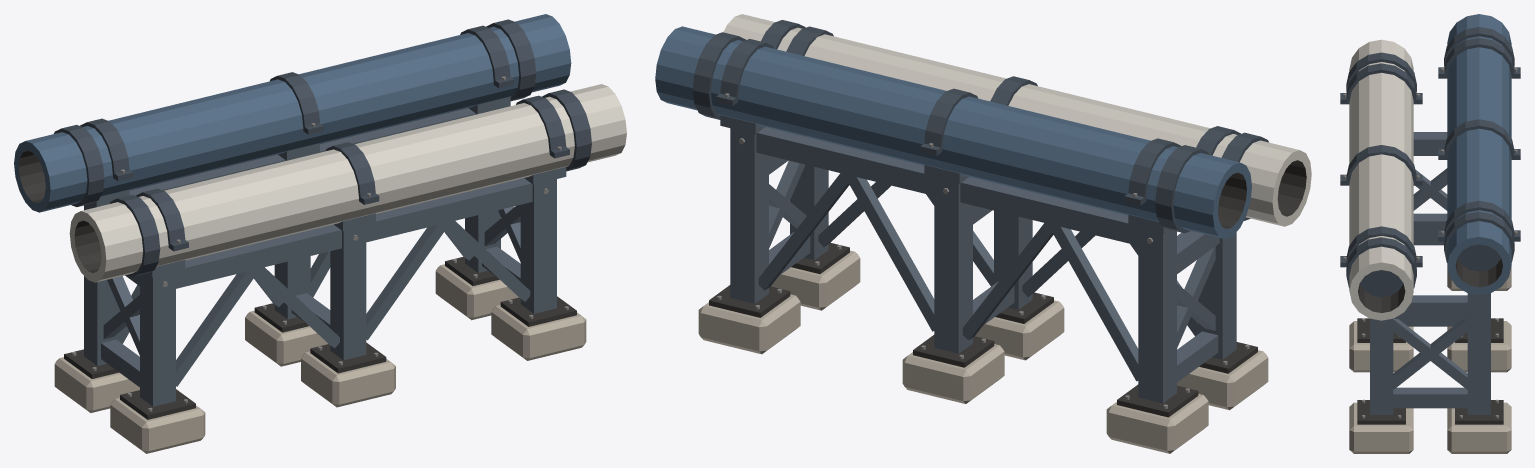
The model's file is pipe rack.fbx.
3 renders of one model, left to right at view 1: azimuth 30°, elevation 25°; view 2: azimuth 150°, elevation 25°; view 3: azimuth 270°, elevation 25°, orthographic. The views are drawn at different scales.
Visible parts, largest first — view 1: Pipe_Rack; view 2: Pipe_Rack; view 3: Pipe_Rack.
Part boxes in pixels (bbox=[...]): Pipe_Rack: bbox=[14, 14, 626, 453]; Pipe_Rack: bbox=[655, 14, 1311, 453]; Pipe_Rack: bbox=[1340, 14, 1520, 453].
Bounding box in the file's own units: 410 × 205 × 140.
